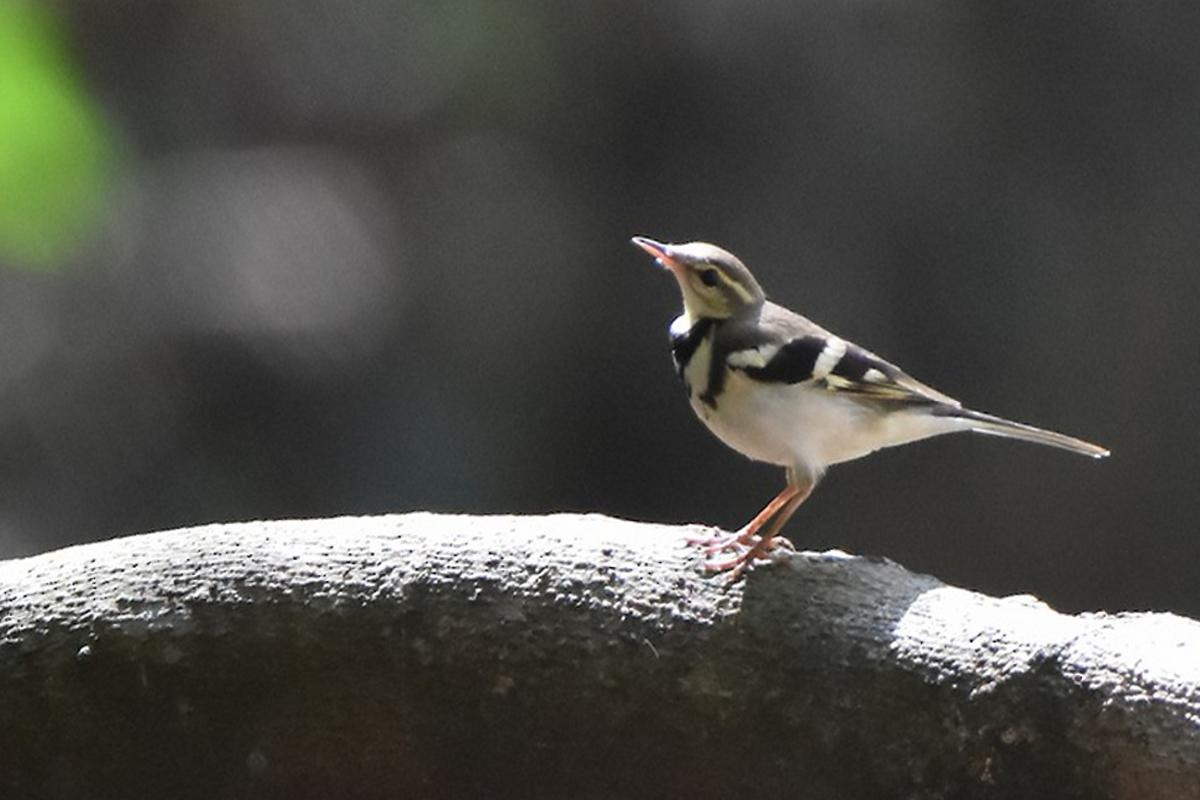wagtail: (627, 215, 1026, 545)
